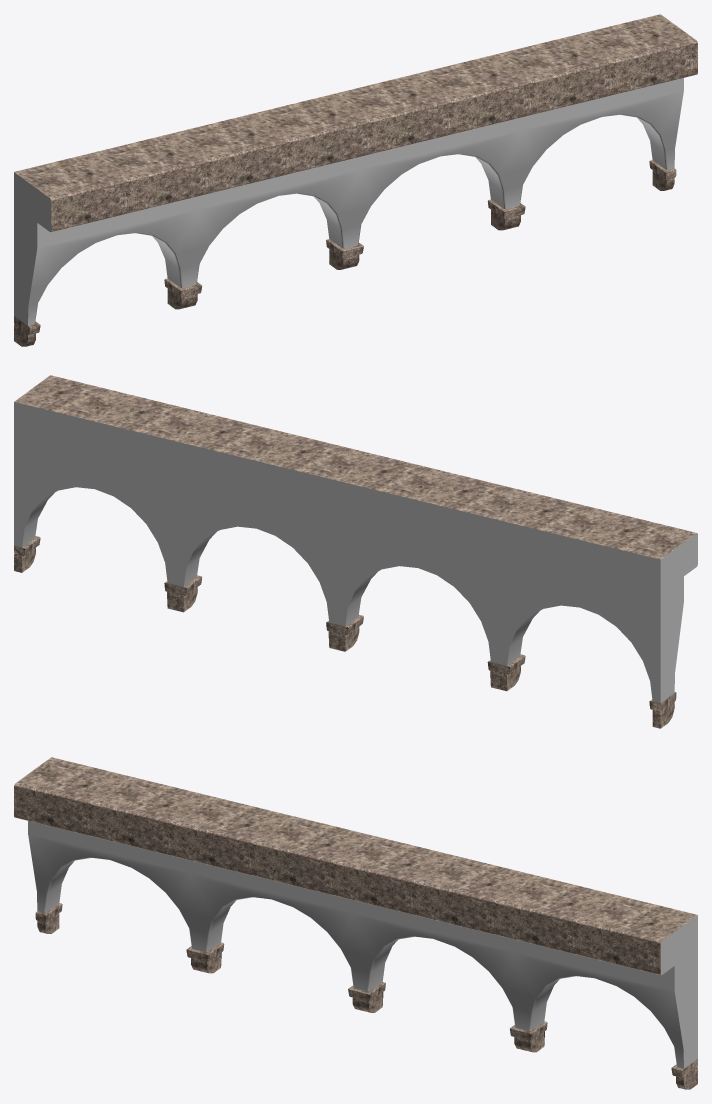
Rendered from Fassadenbögen_4x1.gltf.
3 renders of one model, top to bottom at view 1: azimuth 30°, elevation 25°; view 2: azimuth 150°, elevation 25°; view 3: azimuth 330°, elevation 25°, orthographic.
Parts seen in each view (by area): view 1: LOD0_Fassadenbögen_4x1; view 2: LOD0_Fassadenbögen_4x1; view 3: LOD0_Fassadenbögen_4x1.
Part boxes in pixels (x1,y1,x2,y2): LOD0_Fassadenbögen_4x1: [14, 14, 697, 346]; LOD0_Fassadenbögen_4x1: [14, 375, 697, 728]; LOD0_Fassadenbögen_4x1: [14, 757, 697, 1089].
Size of the model in its own units: 8 by 2 by 0.8018.
